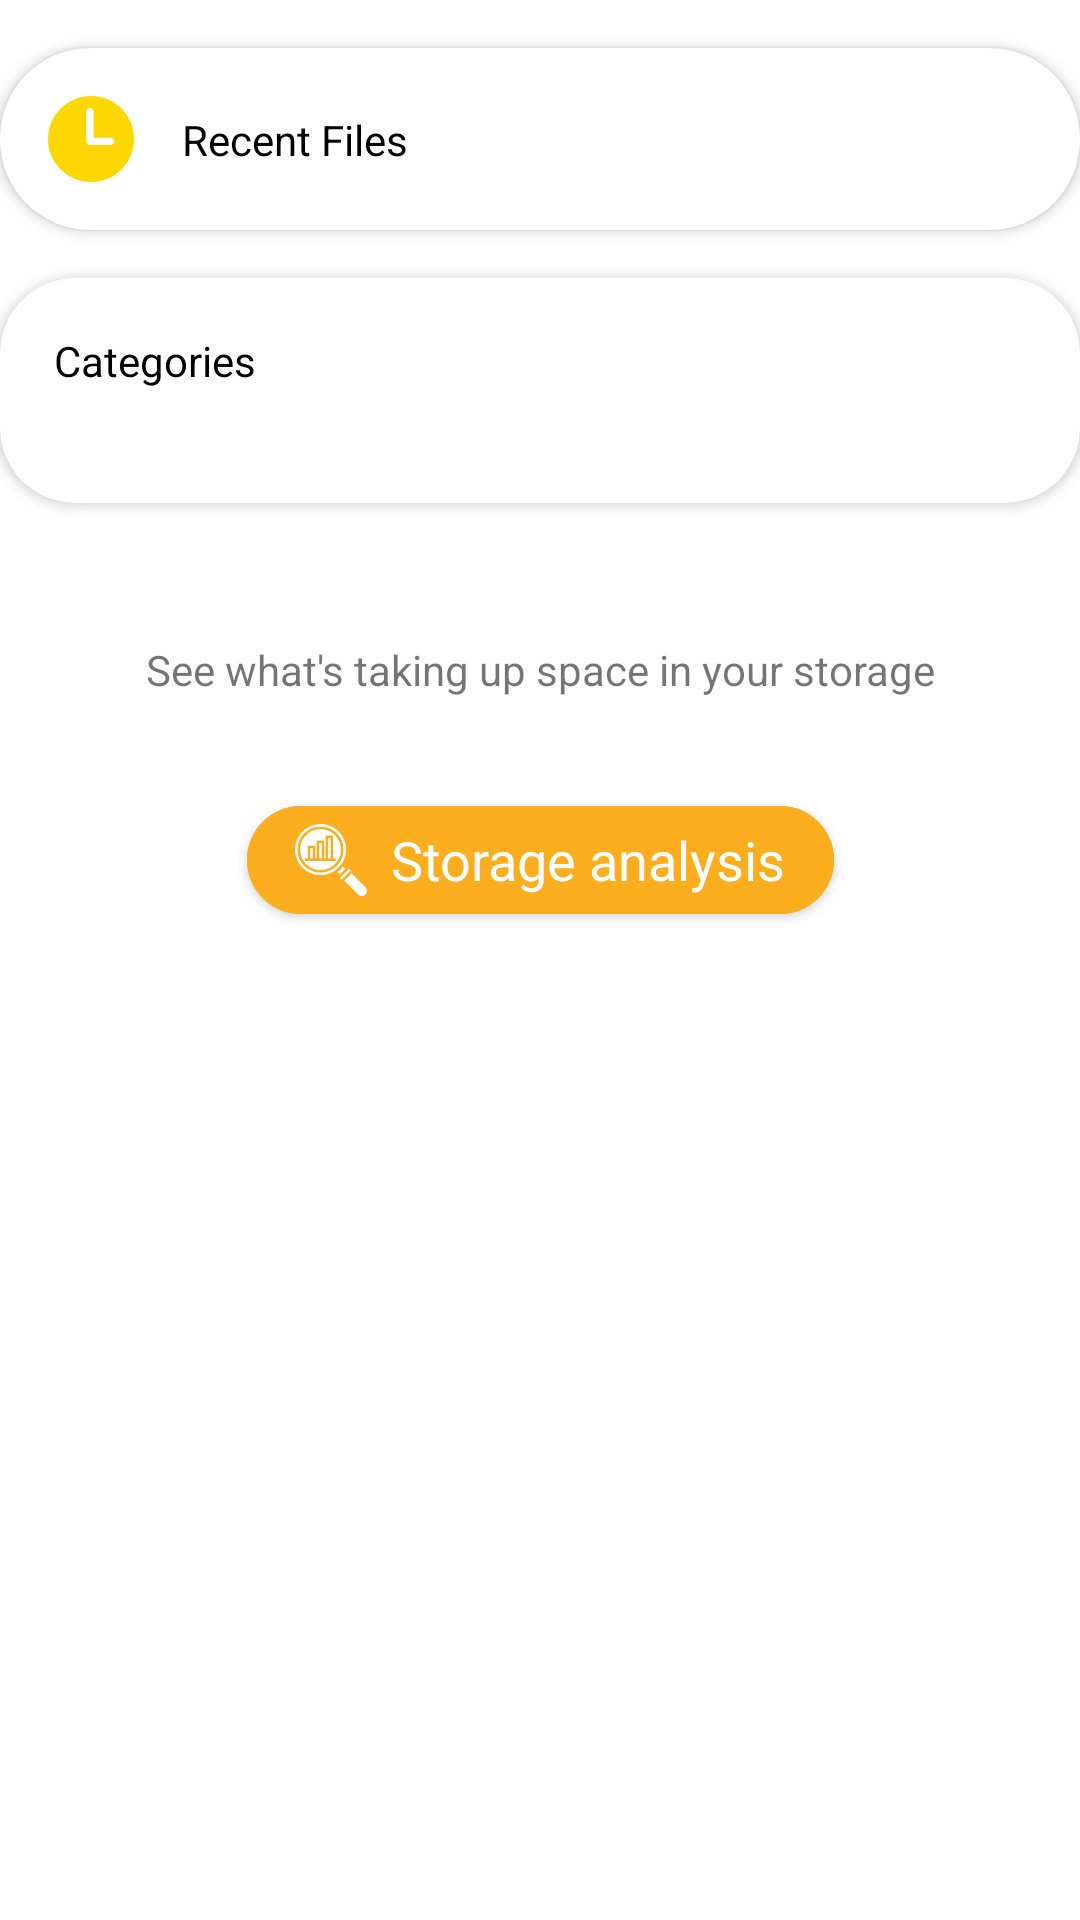

Screen size 1080 × 1920. Icon name, then its center in pixels as (x,y):
clock: (91,139)
